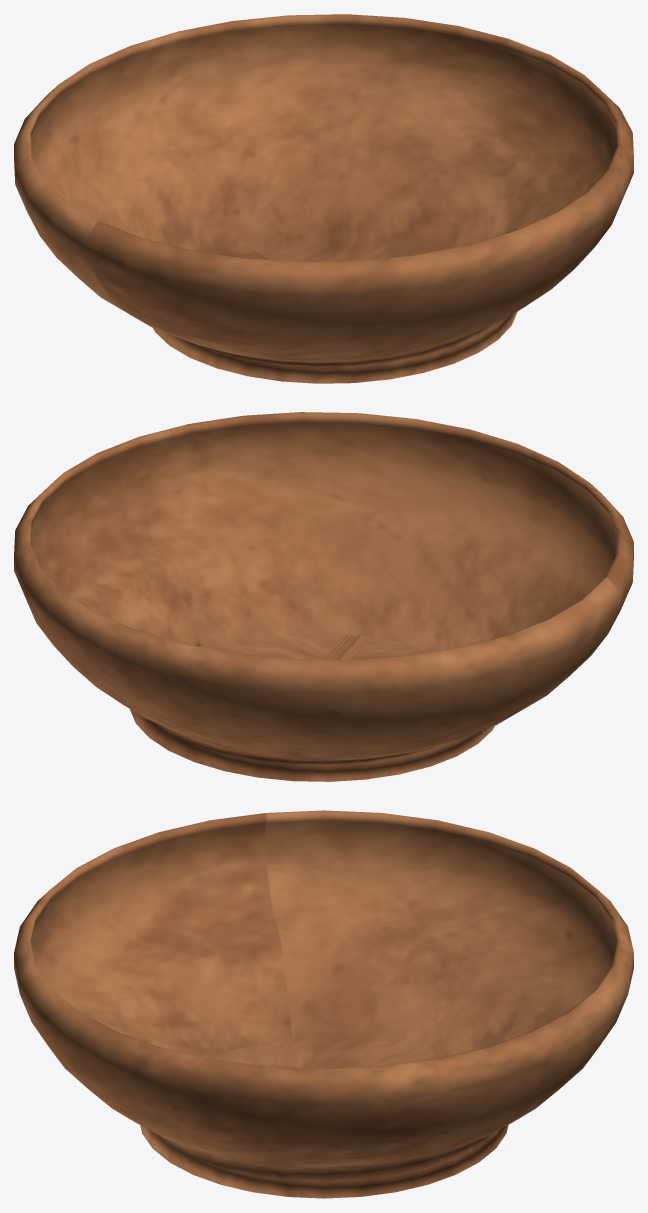
Rendered from m_bol_1.fbx.
3 views of the same model, one above another, from view 1: azimuth 30°, elevation 25°; view 2: azimuth 150°, elevation 25°; view 3: azimuth 270°, elevation 25° (orthographic).
Visible parts, largest first — view 1: Bol.001; view 2: Bol.001; view 3: Bol.001.
Boxes of the visible parts, box(x1,y1,x2,y2) form: Bol.001: box(14, 14, 633, 383); Bol.001: box(14, 412, 633, 781); Bol.001: box(14, 810, 633, 1198).
Bounding box in the file's own units: 24.98 × 7.49 × 24.25.
